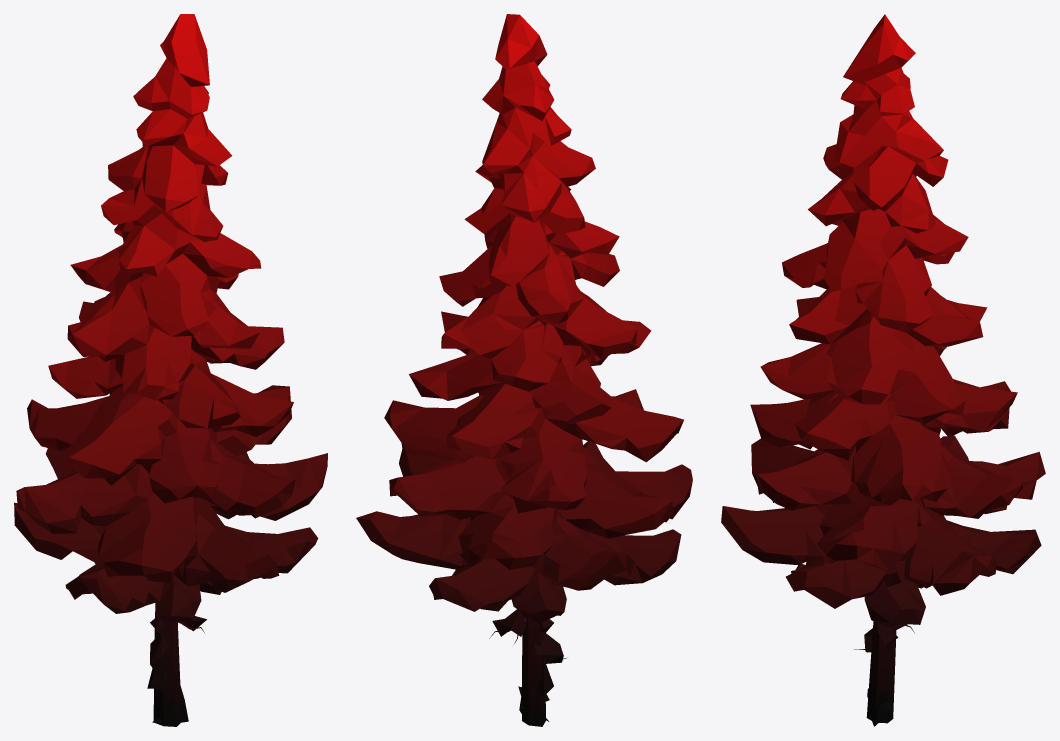
File: TreeSpruce09_Snow.fbx
3 renders of one model, left to right at view 1: azimuth 30°, elevation 25°; view 2: azimuth 150°, elevation 25°; view 3: azimuth 270°, elevation 25°, orthographic.
Parts seen in each view (by area): view 1: TreeSpruce09_Snow_LOD0; view 2: TreeSpruce09_Snow_LOD0; view 3: TreeSpruce09_Snow_LOD0.
Boxes of the visible parts, left/top/right/bottom form: TreeSpruce09_Snow_LOD0: left=14, top=14, right=327, bottom=726; TreeSpruce09_Snow_LOD0: left=356, top=14, right=692, bottom=726; TreeSpruce09_Snow_LOD0: left=721, top=14, right=1045, bottom=726.
Size of what is drawn, in the model's own units: 194 by 449 by 186.
